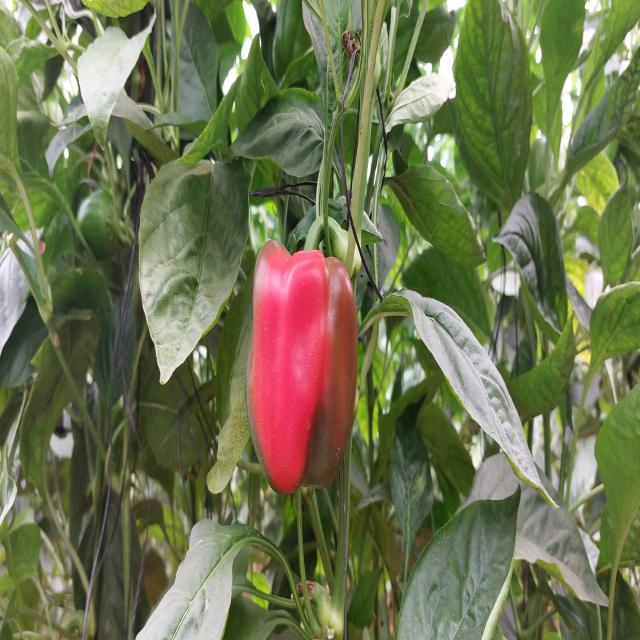BrownishRed--Can-be-Harvested: (248, 234, 355, 501)
